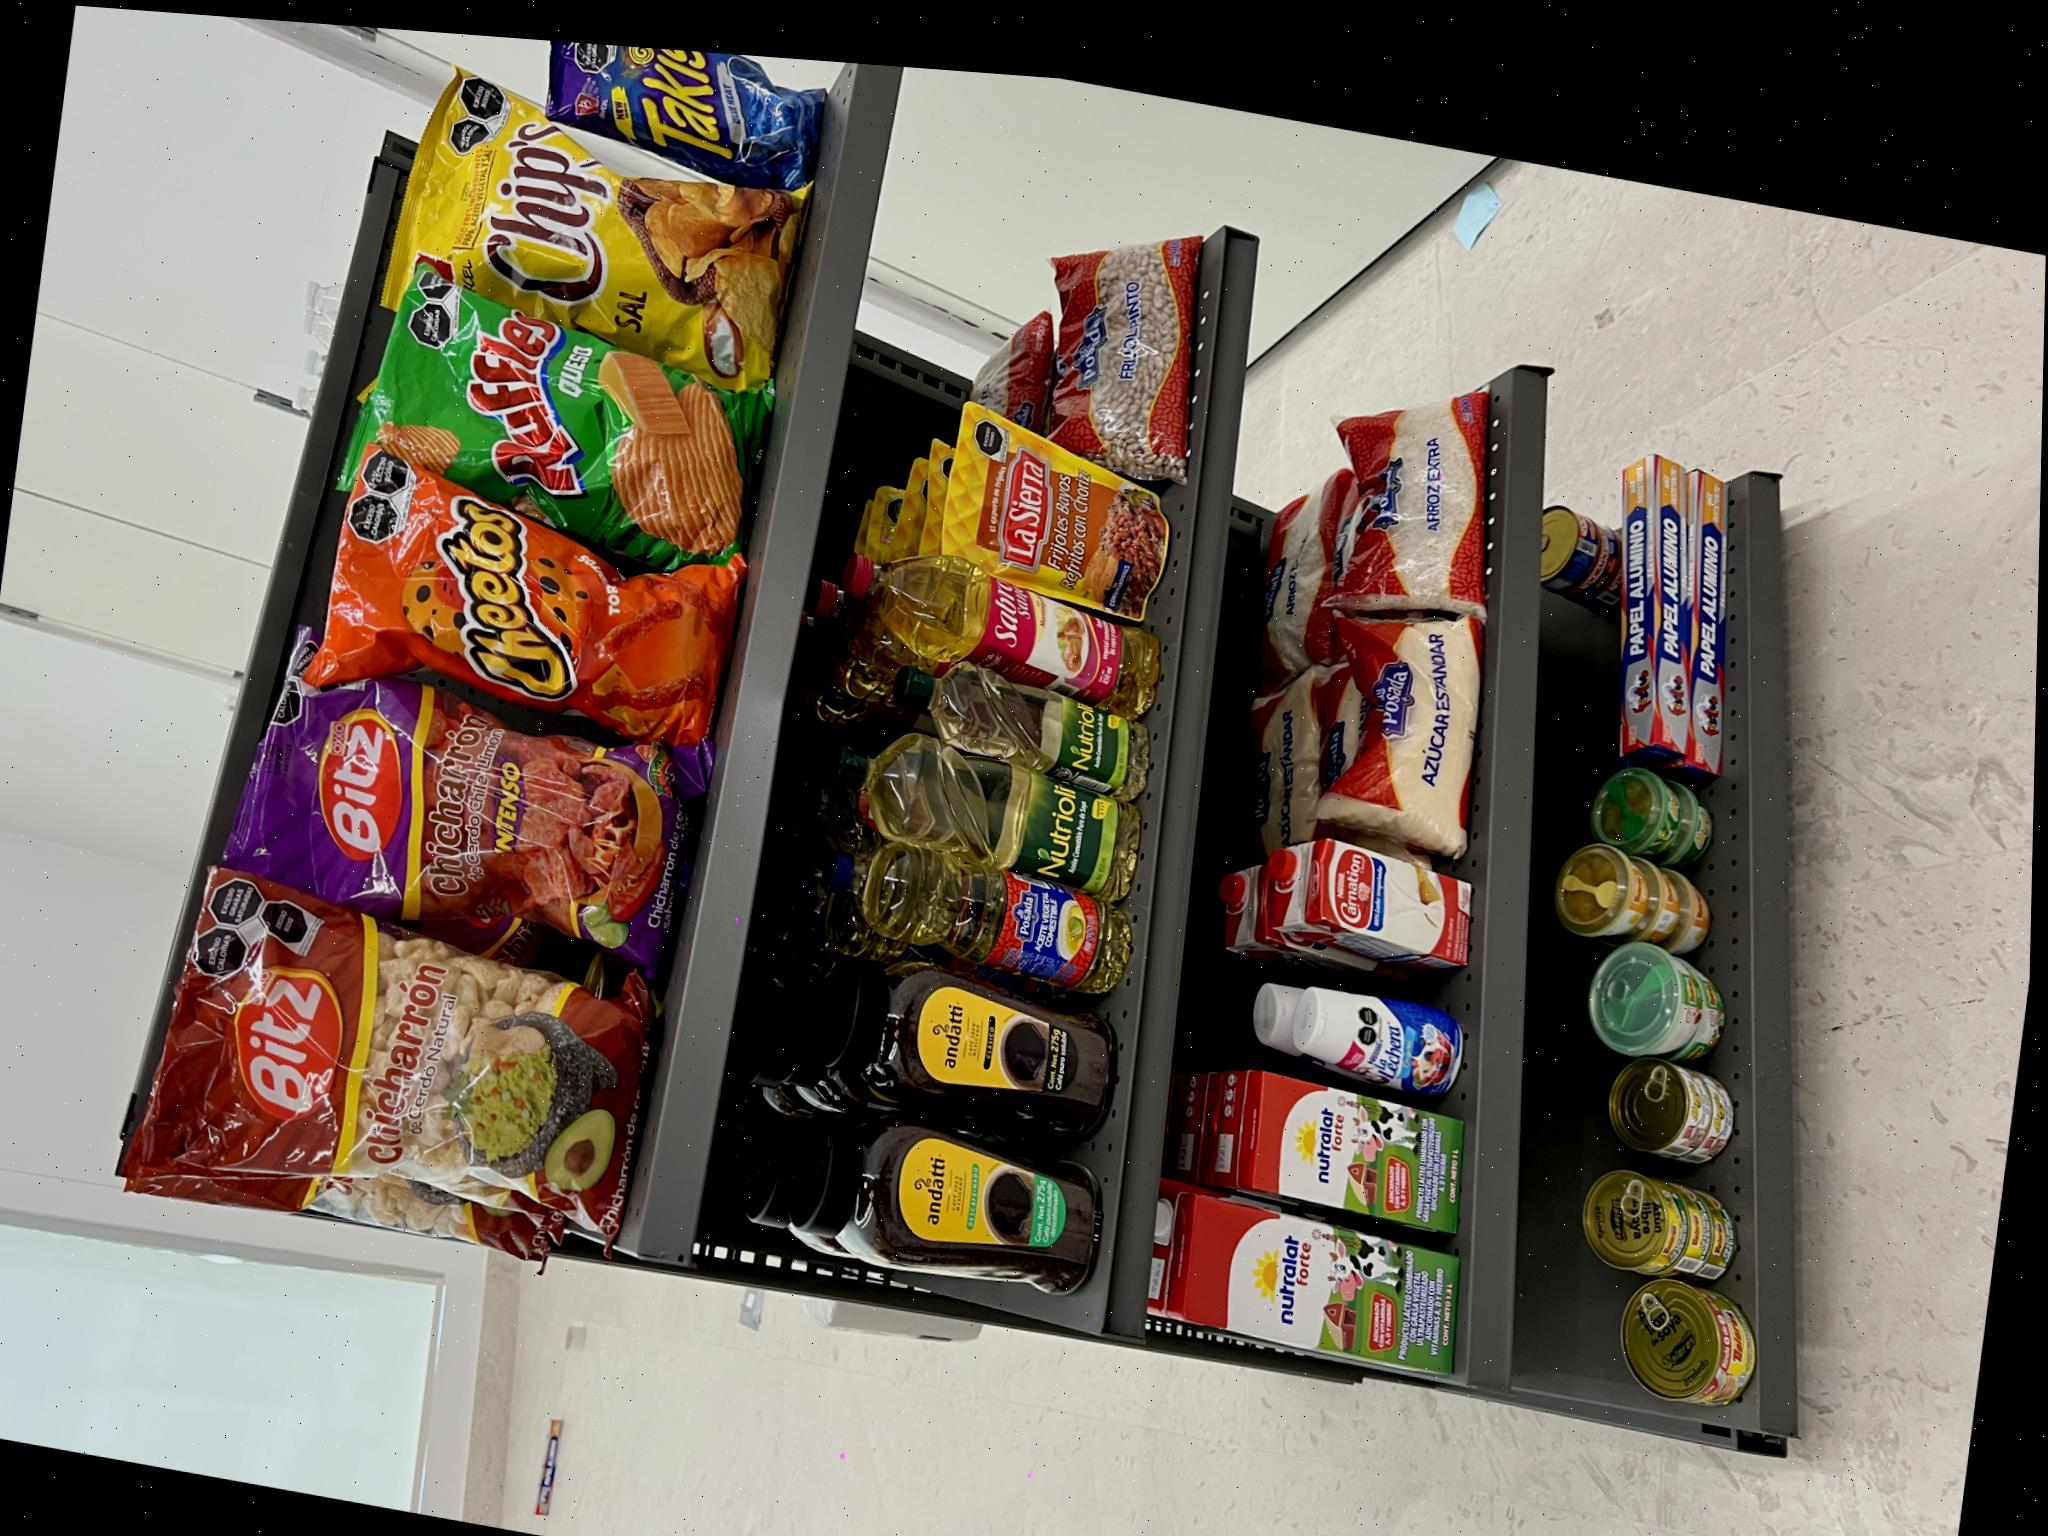aceite_nutrioli_400ml: (768, 934, 908, 1205)
aceite_nutrioli_850ml: (672, 874, 847, 1197)
aceite_posada: (574, 865, 734, 1184)
aceite_saborsano: (851, 884, 1029, 1215)
andatti: (269, 829, 452, 1134), (437, 857, 613, 1154)
azucar_laposada: (747, 1370, 966, 1536), (985, 1404, 1193, 1536)
carnation: (618, 1355, 745, 1531)
cheetos: (810, 373, 1089, 797)
chicharron_bitz_intenso: (595, 284, 861, 755)
chicharron_bitz_natural: (316, 169, 643, 681)
chips_sal: (1159, 489, 1459, 883)
frijol_laposada: (1109, 1118, 1332, 1268)
frijol_lasierra: (948, 999, 1148, 1241)
lalechera: (484, 1325, 597, 1518)
leche_nutralatforte: (206, 1202, 379, 1491), (355, 1279, 502, 1496)
ruffles: (987, 440, 1259, 844)
takis: (1358, 637, 1548, 916)
